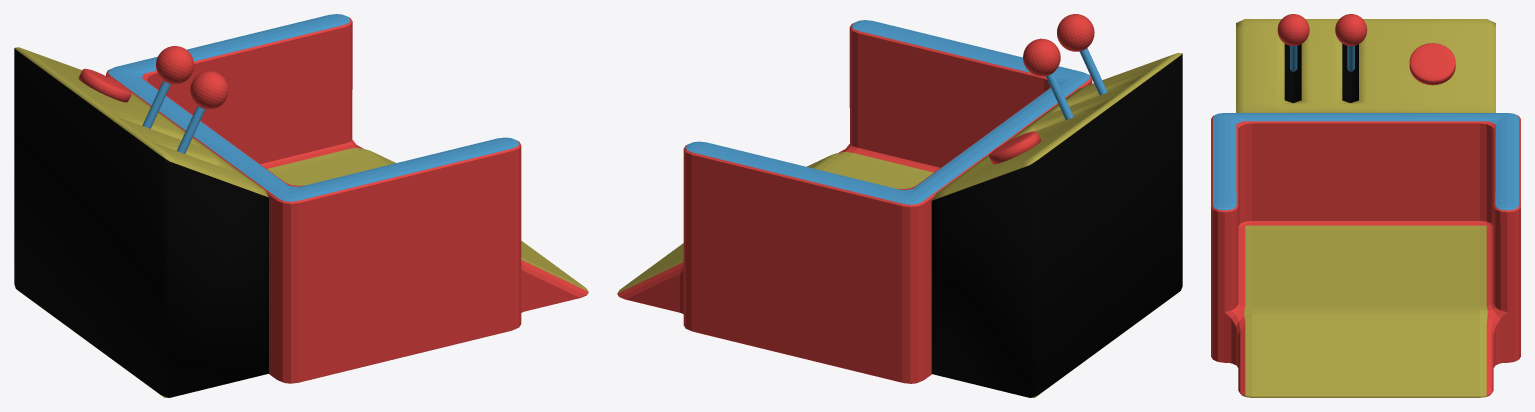
The model's file is schaltknueppel_002.fbx.
3 views of the same model, side by side, from view 1: azimuth 30°, elevation 25°; view 2: azimuth 150°, elevation 25°; view 3: azimuth 270°, elevation 25° (orthographic). The views are drawn at different scales.
Parts seen in each view (by area): view 1: Station, Elekltronik, knueppel2.001, knueppel2, Button; view 2: Station, Elekltronik, knueppel2, knueppel2.001, Button; view 3: Station, Elekltronik, Button, knueppel2.001, knueppel2.
Boxes of the visible parts, x1=… form: Station: x1=106, y1=14, x2=588, y2=383; Elekltronik: x1=14, y1=47, x2=268, y2=397; knueppel2.001: x1=177, y1=71, x2=228, y2=153; knueppel2: x1=142, y1=46, x2=194, y2=128; Button: x1=78, y1=68, x2=131, y2=102; Station: x1=617, y1=20, x2=1092, y2=383; Elekltronik: x1=931, y1=52, x2=1182, y2=397; knueppel2: x1=1023, y1=38, x2=1073, y2=119; knueppel2.001: x1=1057, y1=14, x2=1107, y2=95; Button: x1=989, y1=131, x2=1041, y2=164; Station: x1=1211, y1=113, x2=1520, y2=397; Elekltronik: x1=1236, y1=19, x2=1495, y2=112; Button: x1=1409, y1=43, x2=1455, y2=85; knueppel2.001: x1=1277, y1=14, x2=1309, y2=71; knueppel2: x1=1335, y1=14, x2=1367, y2=71.
Bounding box in the file's own units: 345 × 219 × 257.
